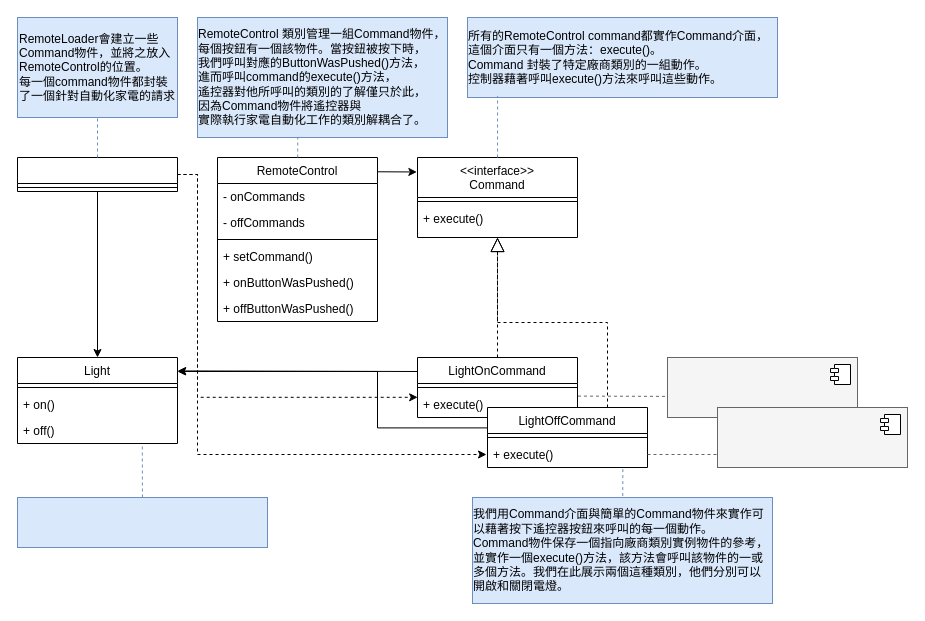
Some shapes in this 925 by 621 pixel diagram are drawn without their labels. The centre of each missing label's shape, as x and y in pixels:
public void execute() { light.off() }: (812,437)
public void execute() { light.on() }: (762,387)
RemoteLoader: (97,174)
我們用廠商的類別來實際控制設備，執行家電自動化工作。在此以Light類別為例。: (142,522)
